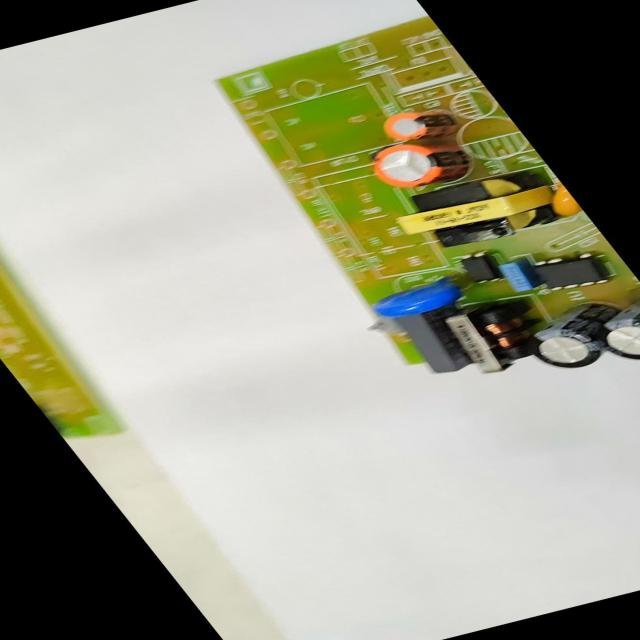Cap1: (356, 129, 494, 199)
Cap2: (366, 101, 462, 147)
Cap3: (503, 296, 639, 378)
Cap4: (574, 294, 640, 371)
MOSFET: (522, 246, 624, 298)
Mov: (356, 273, 475, 327)
Resistor: (361, 314, 407, 338)
Transformer: (379, 165, 579, 259), (424, 297, 562, 384)
